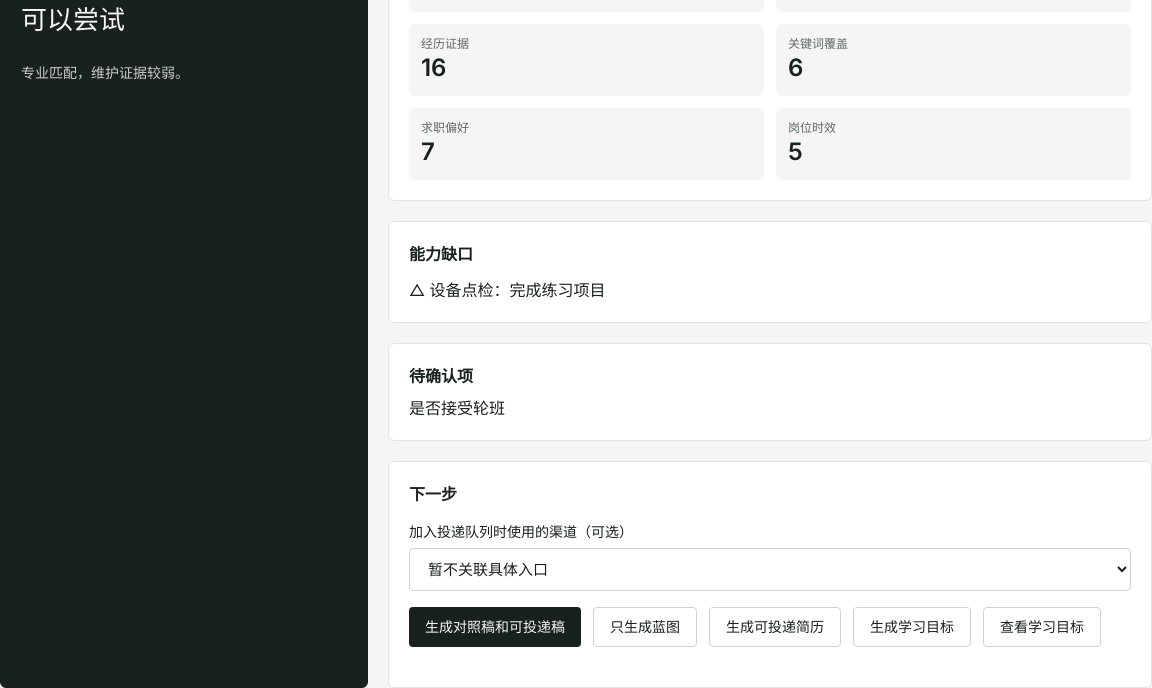
Scenario: 额度不足错误转换为清晰中文提示
(page scrolled)
Expected: the button "生成对照稿和可投递稿" is shown, [409, 607, 581, 647]
Click the button "生成可投递简历" at (775, 627), box [709, 607, 841, 647]
(page scrolled)
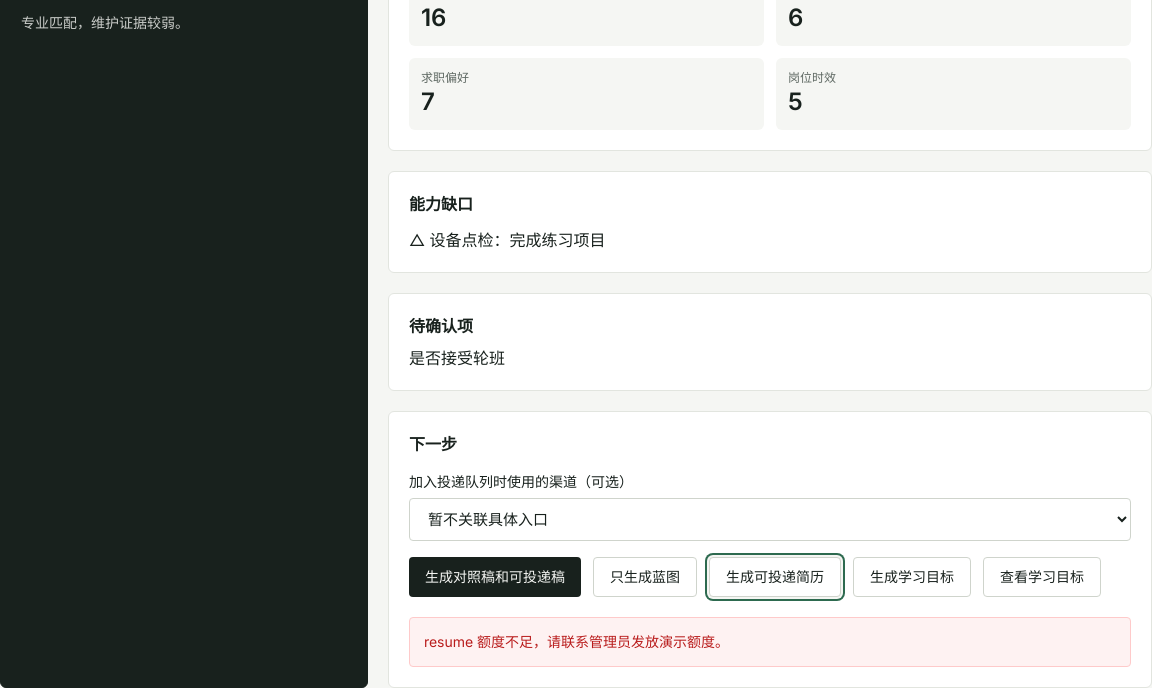
Expected: the text "resume 额度不足，请联系管理员发放演示额度。" is shown, [409, 617, 1131, 667]
